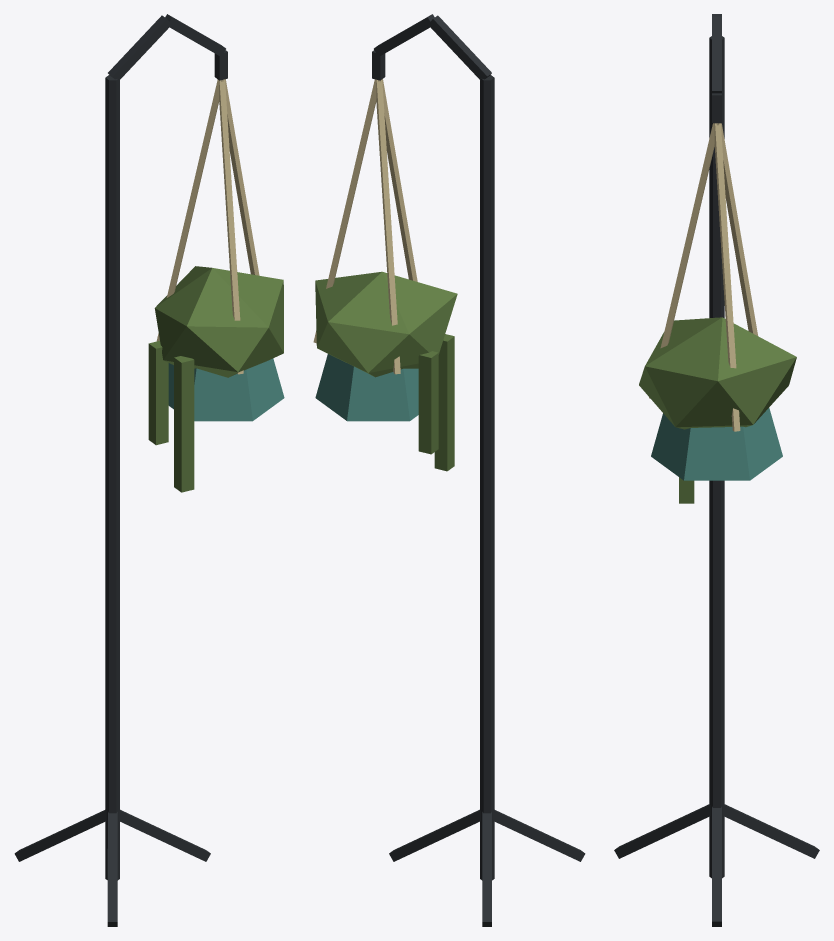
Rendered from plant-hanger-32.glb.
The picture shows the model from 3 angles, left to right: view 1: azimuth 30°, elevation 25°; view 2: azimuth 150°, elevation 25°; view 3: azimuth 270°, elevation 25°; orthographic projection. The views are drawn at different scales.
Parts seen in each view (by area): view 1: plant_hanger_32; view 2: plant_hanger_32; view 3: plant_hanger_32.
Part boxes in pixels (x1,y1,x2,y2): plant_hanger_32: (14,14,284,926); plant_hanger_32: (313,14,585,926); plant_hanger_32: (614,14,819,926).
Bounding box in the file's own units: 0.5252 × 1.92 × 0.4008.
